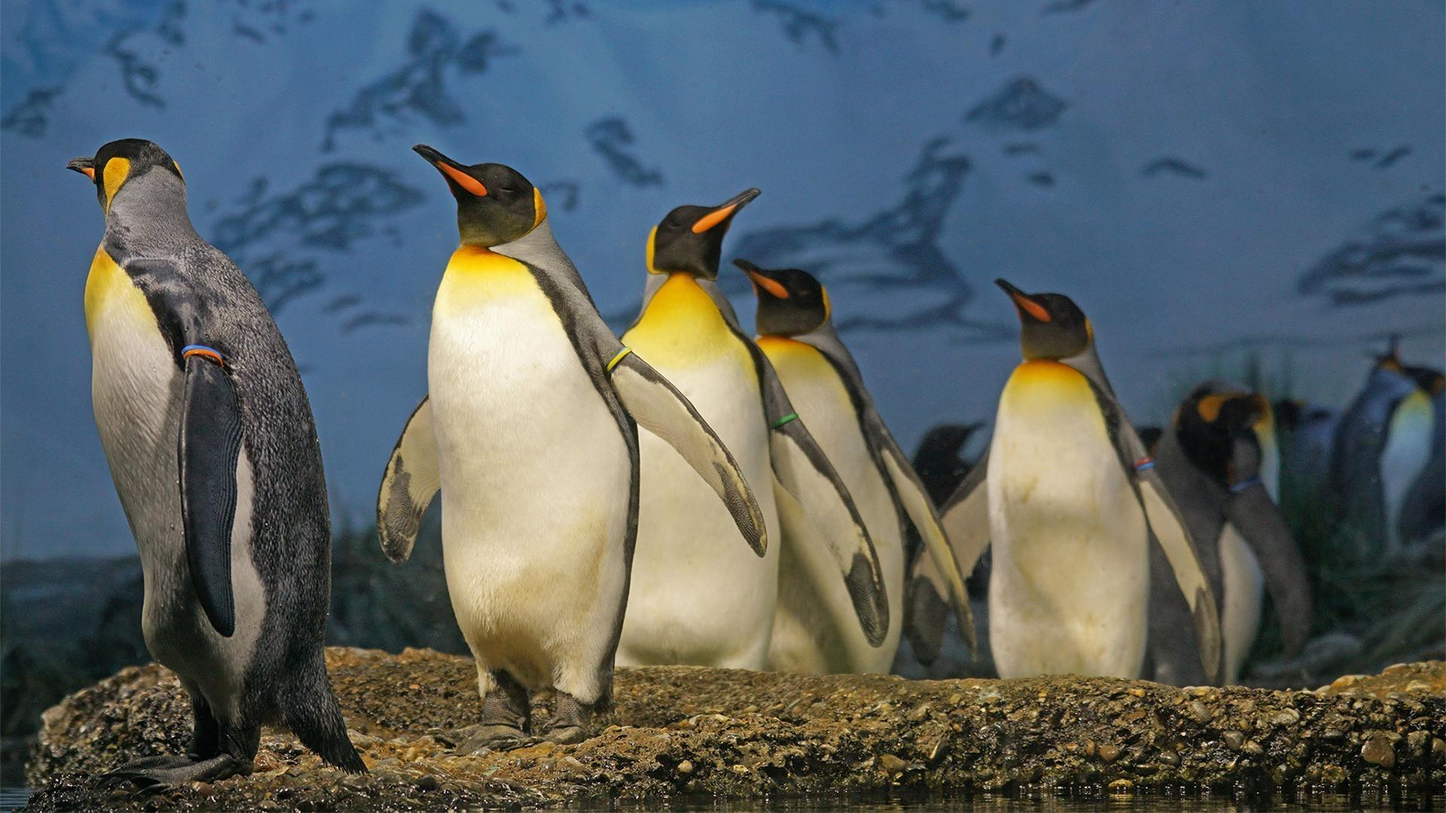Penguin: (377, 144, 768, 752), (68, 139, 364, 787), (614, 188, 889, 670), (943, 277, 1219, 678), (733, 258, 979, 674), (1147, 376, 1310, 689), (1365, 363, 1445, 559), (1328, 336, 1407, 504), (911, 420, 986, 510), (905, 541, 948, 665)
